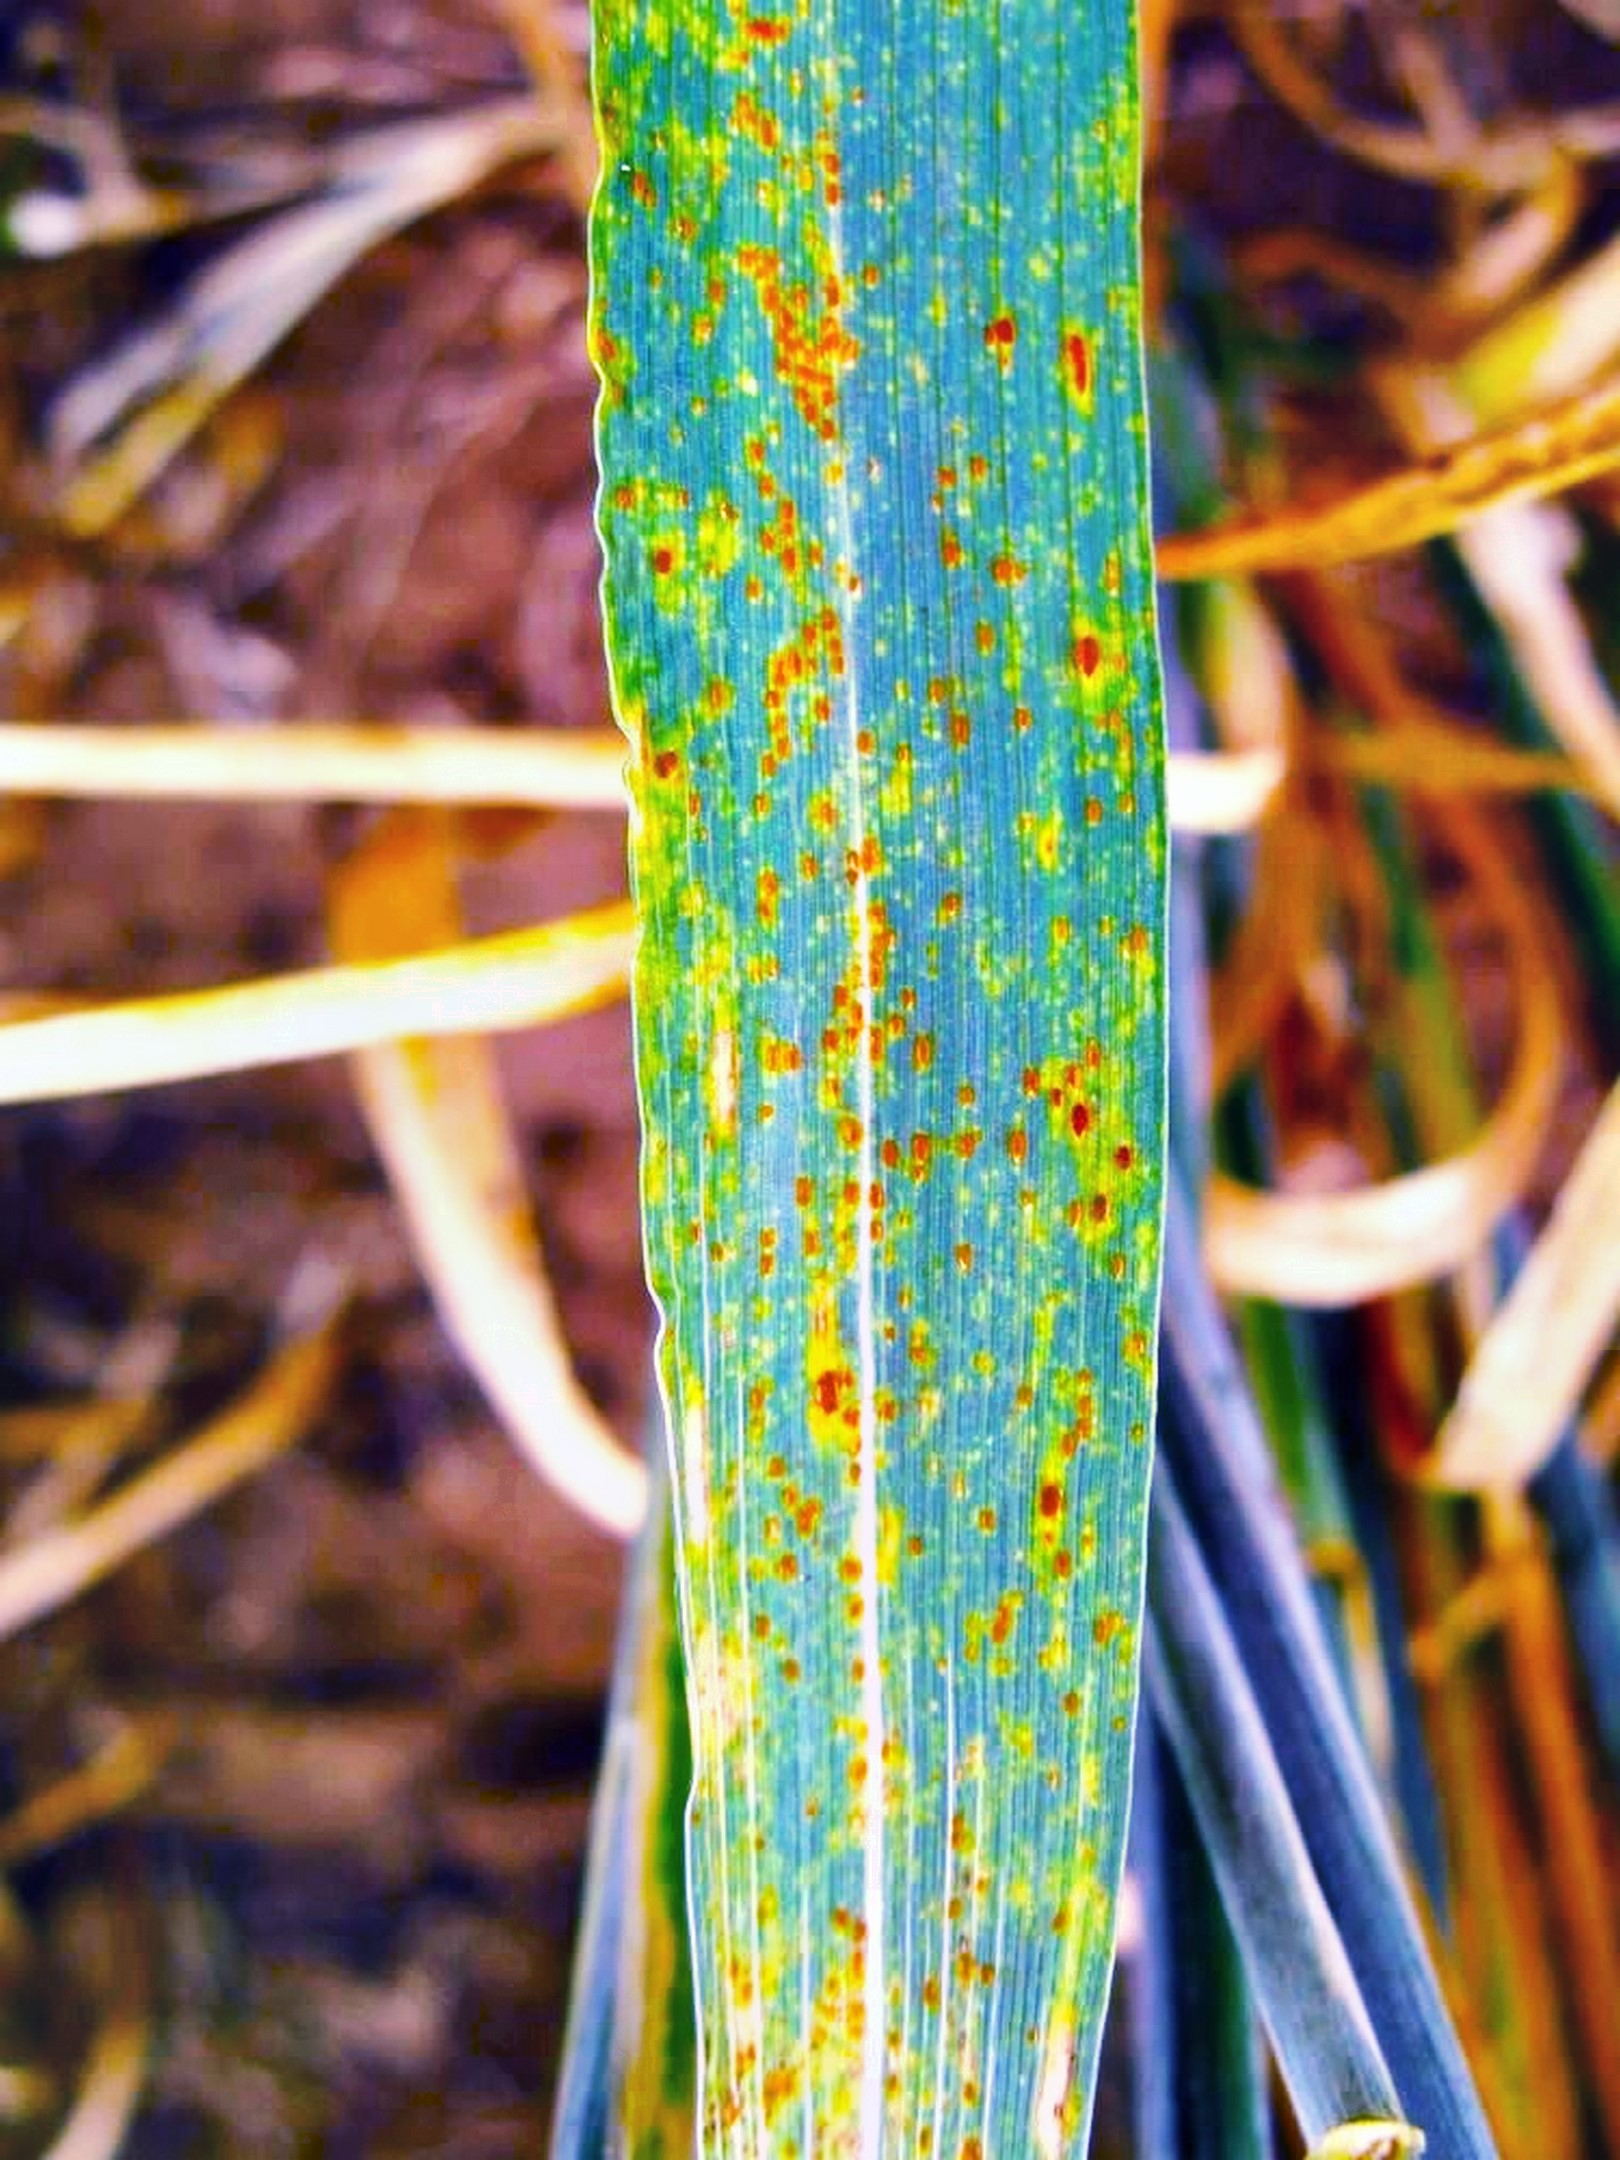Leaf Rust: (611, 112, 1181, 2044)
